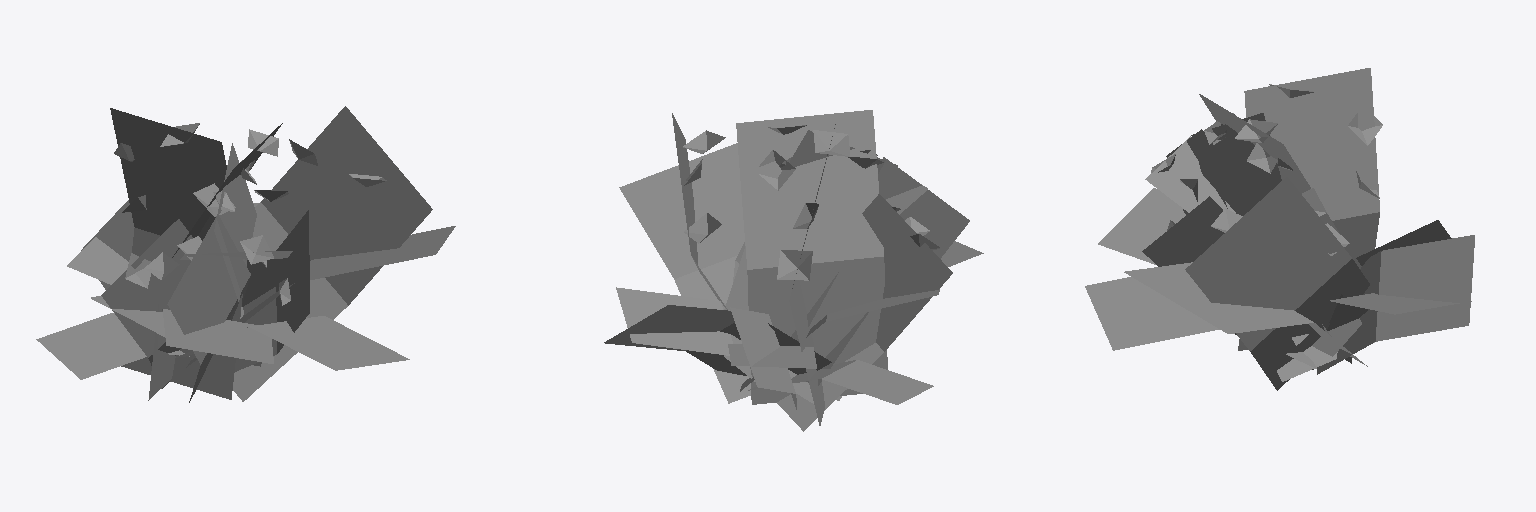
The model's file is flower_6.obj.
The picture shows the model from 3 angles: view 1: azimuth 30°, elevation 25°; view 2: azimuth 150°, elevation 25°; view 3: azimuth 270°, elevation 25°; orthographic projection.
Visible parts, largest first — view 1: flower_6.obj; view 2: flower_6.obj; view 3: flower_6.obj.
Boxes of the visible parts, x1,y1,x2,y2 form: flower_6.obj: [36, 106, 455, 402]; flower_6.obj: [604, 110, 983, 431]; flower_6.obj: [1085, 68, 1474, 390].
Size of the model in its own units: 1.22 by 0.9478 by 1.18.